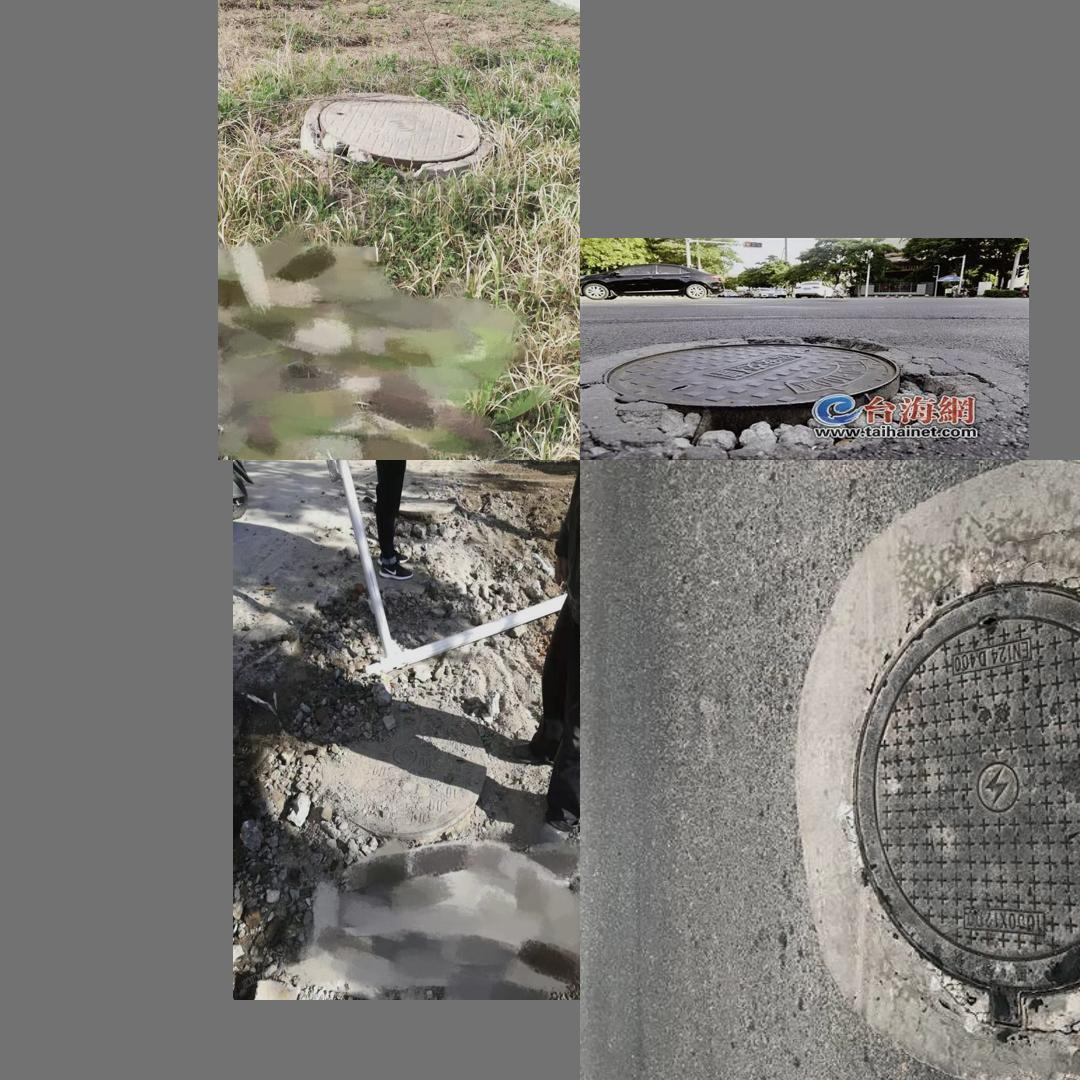circle: (798, 477, 1080, 1080), (587, 335, 1004, 447), (289, 695, 508, 866), (302, 86, 505, 180)
